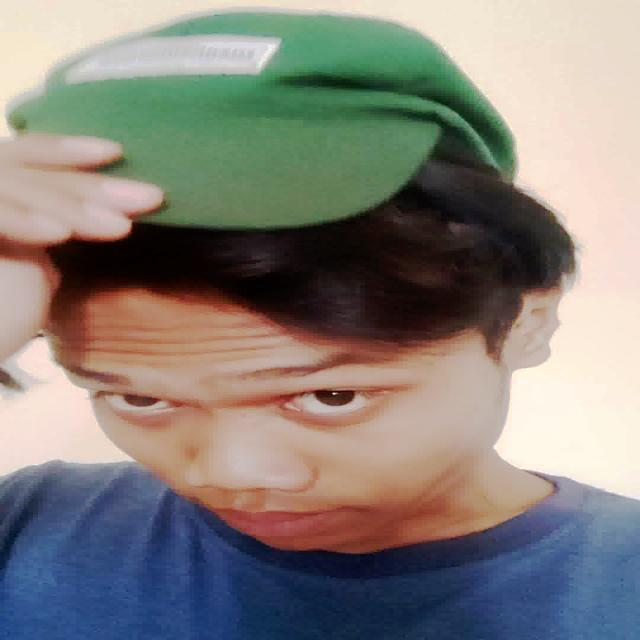TOPI: (6, 10, 531, 222)
